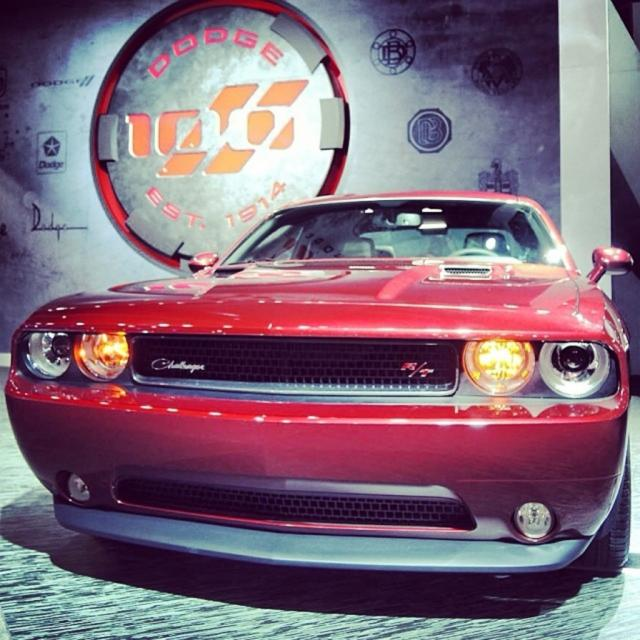car: (10, 175, 635, 589)
